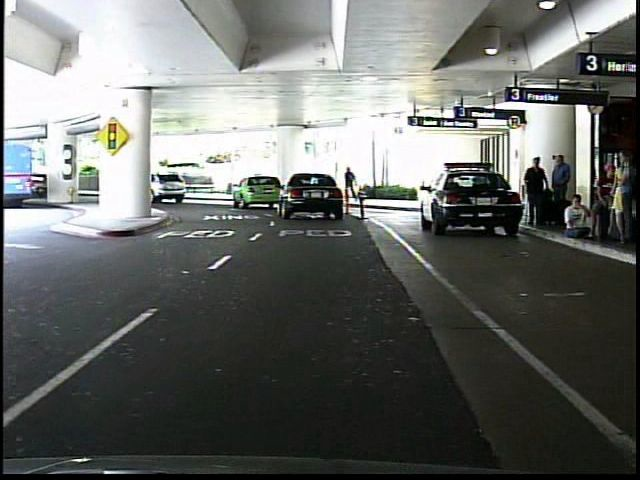person: (548, 149, 574, 229), (523, 152, 551, 226), (344, 163, 360, 205)
